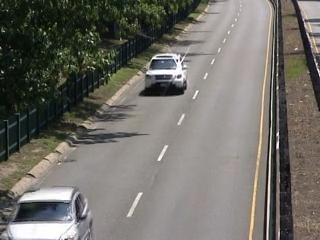car: (4, 181, 98, 240), (140, 49, 191, 96)
